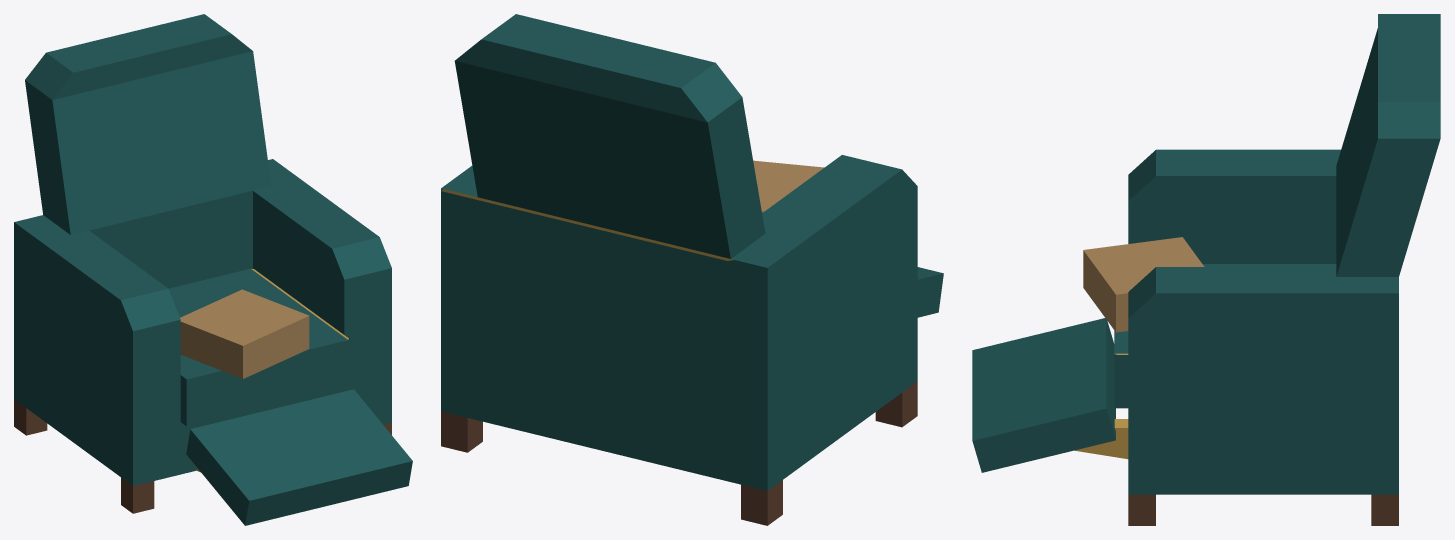
File: loungeChairRelax.glb
The picture shows the model from 3 angles, left to right: view 1: azimuth 30°, elevation 25°; view 2: azimuth 150°, elevation 25°; view 3: azimuth 270°, elevation 25°; orthographic projection. The views are drawn at different scales.
Parts seen in each view (by area): view 1: loungeChairRelax(Clone); view 2: loungeChairRelax(Clone); view 3: loungeChairRelax(Clone).
Part boxes in pixels (box(x1,y1,x2,y2)): loungeChairRelax(Clone): box(14, 14, 412, 525); loungeChairRelax(Clone): box(441, 14, 943, 525); loungeChairRelax(Clone): box(972, 14, 1440, 525).
Bounding box in the file's own units: 0.49 × 0.63 × 0.6747.
